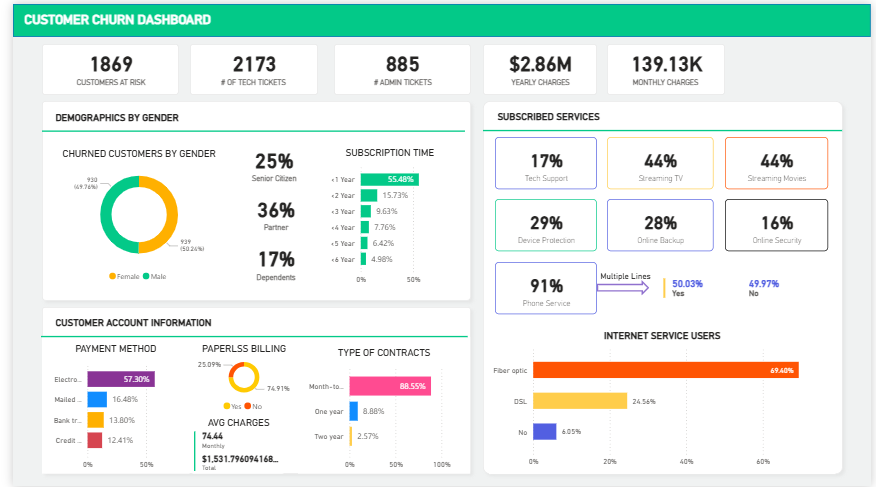

What the dashboard file says about the page in this screenshot:
{"tool":"powerbi","page":{"name":"Churn Dashboard","canvas":[1280,720],"ordinal":0},"visuals":[{"type":"shape","box":[0,0,1280,49],"z":0},{"type":"shape","box":[34,136,658,316],"z":0,"group":"g1"},{"type":"card","fields":{"Values":["Churn.% Tech Support"]},"box":[720,199,152.4,78.4],"z":0,"group":"g4"},{"type":"shape","box":[692,136,555,575],"z":1000},{"type":"card","fields":{"Values":["Churn.% Streaming TV"]},"box":[887.4,199,159.5,78.4],"z":1000,"group":"g4"},{"type":"donutChart","title":"CHURNED CUSTOMERS BY GENDER","fields":{"Category":["01 Churn-Dataset.gender"],"Y":["CountNonNull(01 Churn-Dataset.gender)"]},"box":[61.1,204.4,252.2,223.4],"z":1000,"group":"g1"},{"type":"shape","box":[702,123,536,133],"z":1500,"group":"g3"},{"type":"shape","box":[42,430,636.8,133],"z":1500,"group":"g2"},{"type":"textbox","box":[12,8,438,33],"z":2000},{"type":"textbox","box":[703.8,145,522.6,38],"z":2000,"group":"g3"},{"type":"textbox","box":[42.7,146.1,630.9,47.3],"z":2000,"group":"g1"},{"type":"card","fields":{"Values":["Churn.% Streaming Movies"]},"box":[1062.8,199,154.2,78.4],"z":2000,"group":"g4"},{"type":"textbox","box":[44.2,452,636.8,38],"z":2000,"group":"g2"},{"type":"card","fields":{"Values":["Churn.% of Senior Citizen"]},"box":[330.5,204.4,118,77.5],"z":3000,"group":"g1"},{"type":"card","fields":{"Values":["Churn.% Device Protection"]},"box":[720,291.6,152.4,78.4],"z":3000,"group":"g4"},{"type":"shape","box":[34,444,658,267],"z":3000},{"type":"card","fields":{"Values":["CountNonNull(01 Churn-Dataset.customerID)"]},"box":[44,60,204,76],"z":4000},{"type":"card","fields":{"Values":["Churn.% of partner"]},"box":[329.5,278.9,125.5,74.5],"z":4000,"group":"g1"},{"type":"card","fields":{"Values":["Churn.% Online Backup"]},"box":[887.4,291.6,159.5,78.4],"z":4000,"group":"g4"},{"type":"shape","box":[42.7,151.1,630.9,78.5],"z":5000,"group":"g1"},{"type":"card","fields":{"Values":["Churn.% Online Sec"]},"box":[1062.8,291.6,154.2,78.4],"z":5000,"group":"g4"},{"type":"card","fields":{"Values":["Churn.% Phone Service"]},"box":[720,385,152,78],"z":5000},{"type":"card","fields":{"Values":["Sum(01 Churn-Dataset.numTechTickets)"]},"box":[264,60,191,76],"z":6000},{"type":"card","fields":{"Values":["Churn.% of Dependents"]},"box":[329.5,351.4,125.5,79.5],"z":6000,"group":"g1"},{"type":"clusteredBarChart","title":"SUBSCRIPTION TIME","fields":{"Y":["CountNonNull(Churn.Churn)"],"Category":["Churn.Tenure(in years)"]},"box":[466.9,204.4,190.5,220.4],"z":7000,"group":"g1"},{"type":"clusteredBarChart","title":"PAYMENT METHOD","fields":{"Y":["CountNonNull(Churn.PaymentMethod)"],"Category":["Churn.PaymentMethod"]},"box":[44,497,220,204],"z":7000},{"type":"card","fields":{"Values":["Sum(01 Churn-Dataset.TotalCharges)"]},"box":[702,60,170,76],"z":8000},{"type":"card","fields":{"Values":["Sum(01 Churn-Dataset.numAdminTickets)"]},"box":[479,60,204,76],"z":9000},{"type":"group","id":"g1","title":"Group 1","box":[34,136,658,316],"z":10000},{"type":"card","fields":{"Values":["Sum(01 Churn-Dataset.MonthlyCharges)"]},"box":[887,60,176,76],"z":11000},{"type":"donutChart","title":"PAPERLSS BILLING","fields":{"Category":["Churn.PaperlessBilling"],"Y":["CountNonNull(Churn.PaperlessBilling)"]},"box":[248,497,194,126],"z":12000},{"type":"multiRowCard","title":"AVG CHARGES","fields":{"Values":["Avg(Churn.MonthlyCharges)","Avg(Churn.TotalCharges)"]},"box":[264,606,143,95],"z":13000},{"type":"clusteredBarChart","title":"TYPE OF CONTRACTS","fields":{"Category":["Churn.Contract"],"Y":["CountNonNull(Churn.Contract)"]},"box":[426,497,257,204],"z":14000},{"type":"group","id":"g2","title":"Group 2","box":[42,430,639,133],"z":15000},{"type":"group","id":"g3","title":"Group 2","box":[702,123,536,133],"z":16000},{"type":"group","id":"g4","title":"Group 3","box":[720,199,497,171],"z":17000},{"type":"shape","box":[871,412,78,23],"z":18000},{"type":"textbox","box":[872,391,300,30],"z":19000},{"type":"multiRowCard","fields":{"Values":["Churn.% Yes-Multiple Lines","Churn.% No-Multiple Lines"]},"box":[965,404,252,53],"z":20000},{"type":"barChart","title":"INTERNET SERVICE USERS","fields":{"Y":["CountNonNull(Churn.InternetService)"],"Category":["Churn.InternetService"]},"box":[710,471,517,230],"z":21000}]}

Visuals, with their boxes in screenshot pixels (x1, y1, x2, y2), scaled from the page's 1280x720 canvas onto the 876x487 screenshot:
shape: x1=0 y1=0 x2=875 y2=33
shape: x1=23 y1=92 x2=474 y2=306
card - Churn.% Tech Support: x1=493 y1=135 x2=597 y2=188
shape: x1=474 y1=92 x2=853 y2=481
card - Churn.% Streaming TV: x1=607 y1=135 x2=716 y2=188
"CHURNED CUSTOMERS BY GENDER" donutChart: x1=42 y1=138 x2=214 y2=289
shape: x1=480 y1=83 x2=847 y2=173
shape: x1=29 y1=291 x2=465 y2=381
textbox: x1=8 y1=5 x2=308 y2=28
textbox: x1=482 y1=98 x2=839 y2=124
textbox: x1=29 y1=99 x2=461 y2=131
card - Churn.% Streaming Movies: x1=727 y1=135 x2=833 y2=188
textbox: x1=30 y1=306 x2=466 y2=331
card - Churn.% of Senior Citizen: x1=226 y1=138 x2=307 y2=191
card - Churn.% Device Protection: x1=493 y1=197 x2=597 y2=250
shape: x1=23 y1=300 x2=474 y2=481
card - CountNonNull(01 Churn-Dataset.customerID): x1=30 y1=41 x2=170 y2=92
card - Churn.% of partner: x1=226 y1=189 x2=311 y2=239
card - Churn.% Online Backup: x1=607 y1=197 x2=716 y2=250
shape: x1=29 y1=102 x2=461 y2=155
card - Churn.% Online Sec: x1=727 y1=197 x2=833 y2=250
card - Churn.% Phone Service: x1=493 y1=260 x2=597 y2=313
card - Sum(01 Churn-Dataset.numTechTickets): x1=181 y1=41 x2=311 y2=92
card - Churn.% of Dependents: x1=226 y1=238 x2=311 y2=291
"SUBSCRIPTION TIME" clusteredBarChart: x1=320 y1=138 x2=450 y2=287
"PAYMENT METHOD" clusteredBarChart: x1=30 y1=336 x2=181 y2=474
card - Sum(01 Churn-Dataset.TotalCharges): x1=480 y1=41 x2=597 y2=92
card - Sum(01 Churn-Dataset.numAdminTickets): x1=328 y1=41 x2=467 y2=92
"Group 1" group: x1=23 y1=92 x2=474 y2=306
card - Sum(01 Churn-Dataset.MonthlyCharges): x1=607 y1=41 x2=727 y2=92
"PAPERLSS BILLING" donutChart: x1=170 y1=336 x2=302 y2=421
"AVG CHARGES" multiRowCard: x1=181 y1=410 x2=279 y2=474
"TYPE OF CONTRACTS" clusteredBarChart: x1=292 y1=336 x2=467 y2=474
"Group 2" group: x1=29 y1=291 x2=466 y2=381
"Group 2" group: x1=480 y1=83 x2=847 y2=173
"Group 3" group: x1=493 y1=135 x2=833 y2=250
shape: x1=596 y1=279 x2=649 y2=294
textbox: x1=597 y1=264 x2=802 y2=285
multiRowCard - Churn.% Yes-Multiple Lines x Churn.% No-Multiple Lines: x1=660 y1=273 x2=833 y2=309
"INTERNET SERVICE USERS" barChart: x1=486 y1=319 x2=840 y2=474
